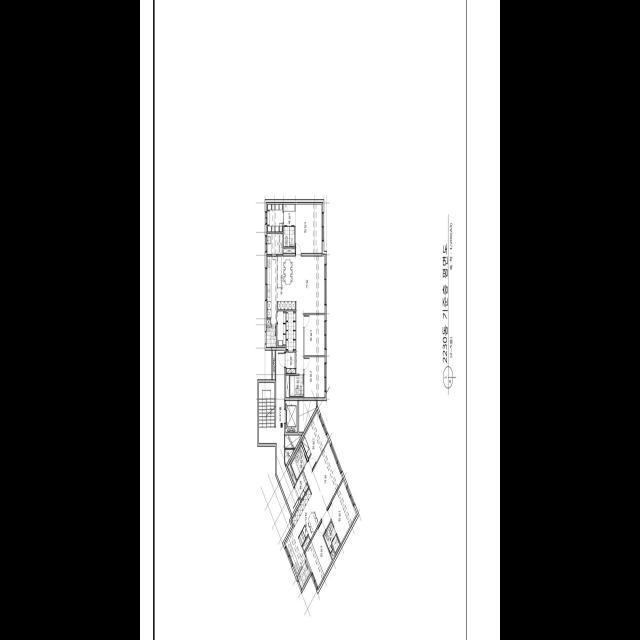background: (140, 0, 500, 640)
space_balconi: (297, 559, 311, 588), (266, 327, 277, 347)
space_bedroom: (305, 521, 333, 589), (328, 479, 357, 544), (301, 409, 328, 469), (296, 202, 323, 252), (304, 356, 325, 397), (304, 314, 325, 355)
space_dressroom: (266, 202, 283, 231)
space_elevator: (286, 400, 297, 431)
space_elevator_hall: (276, 350, 299, 514)
space_front: (295, 470, 308, 501), (286, 351, 296, 373)
space_kitchen: (284, 488, 321, 576), (266, 256, 296, 323)
space_living_room: (303, 440, 343, 529), (296, 254, 325, 373)
space_other: (299, 400, 316, 431), (286, 311, 296, 350), (266, 233, 283, 254), (278, 310, 286, 347), (285, 435, 301, 447), (288, 463, 296, 484), (285, 449, 294, 465), (303, 536, 310, 551), (286, 375, 289, 397), (273, 350, 275, 379), (284, 248, 295, 252), (331, 551, 335, 560), (266, 319, 270, 324)
space_staircase: (259, 382, 276, 443)
space_toilet: (291, 444, 307, 479), (324, 521, 340, 552), (284, 202, 295, 246), (290, 375, 304, 396)
